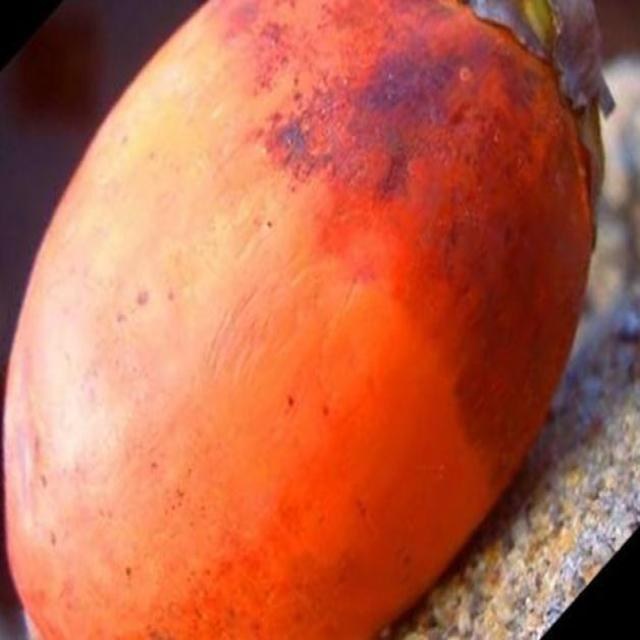good: (3, 0, 616, 639)
